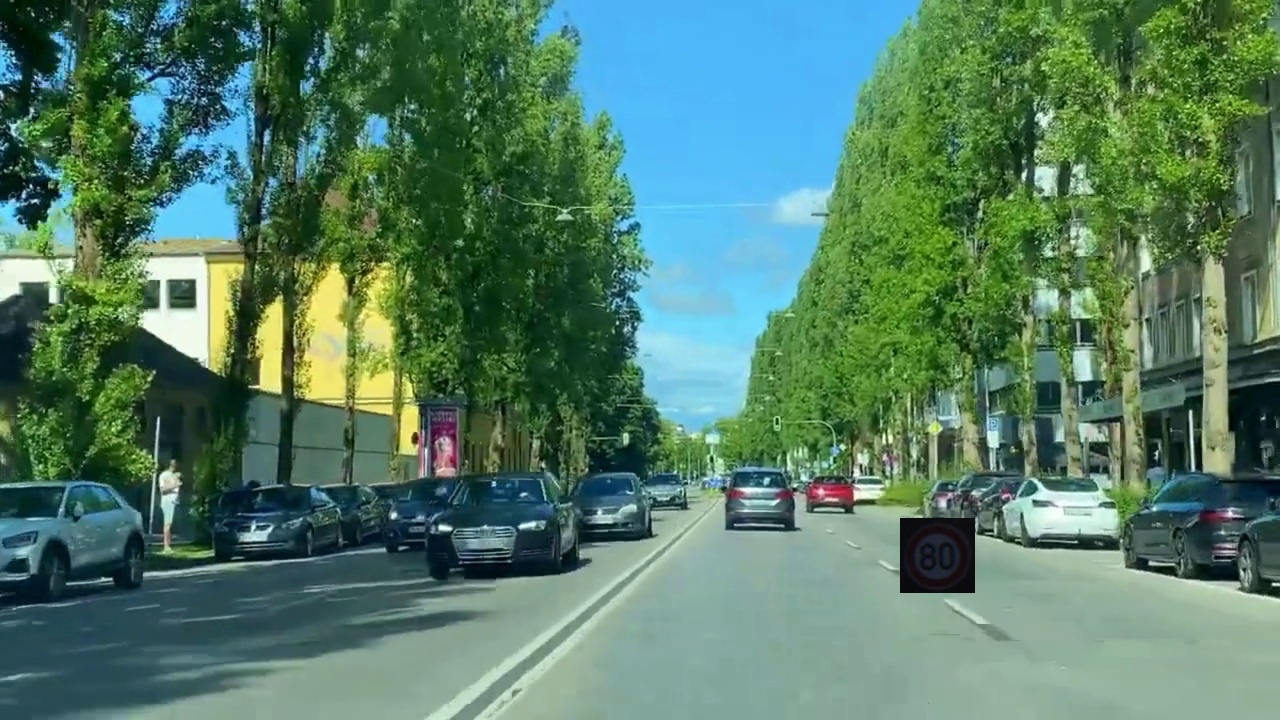Speed 80: (900, 518, 975, 593)
